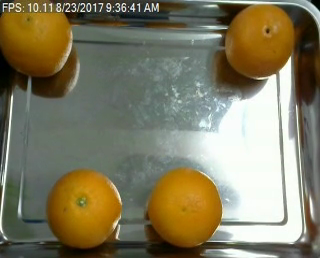Orange: (145, 168, 222, 248), (46, 169, 124, 247), (1, 1, 75, 75), (224, 4, 293, 79)
